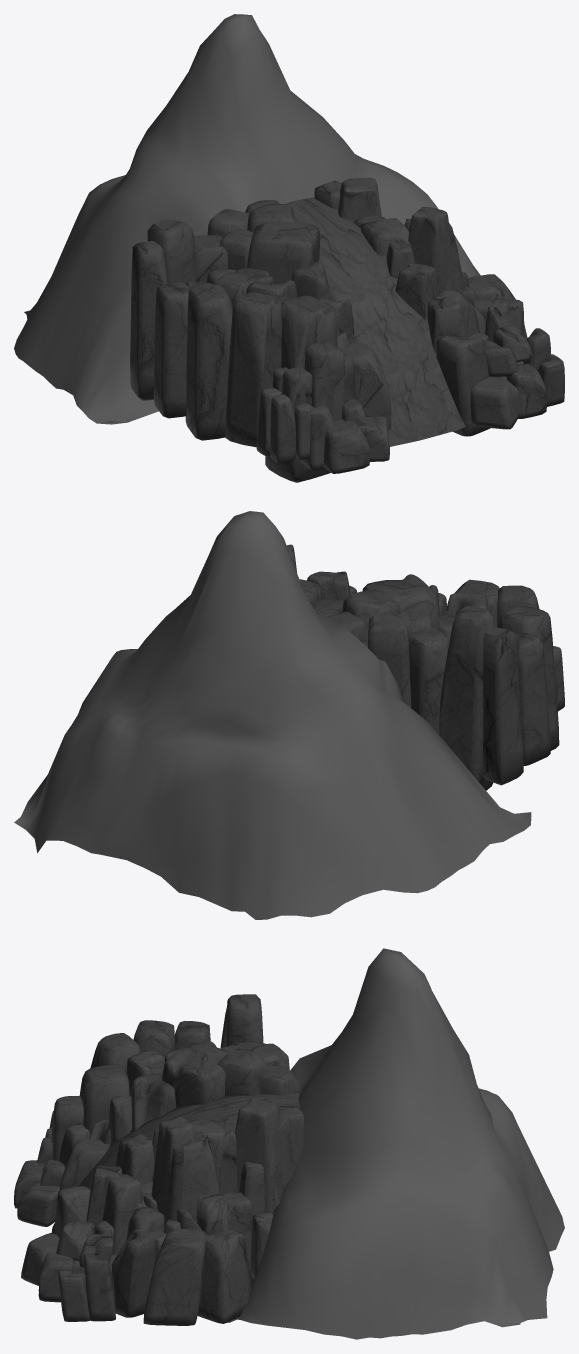
The model's file is Waterfall Mountain.fbx.
The picture shows the model from 3 angles, top to bottom: view 1: azimuth 30°, elevation 25°; view 2: azimuth 150°, elevation 25°; view 3: azimuth 270°, elevation 25°; orthographic projection. The views are drawn at different scales.
Visible parts, largest first — view 1: Mountain, Mountain.002, Mountain.001; view 2: Mountain.002, Mountain; view 3: Mountain.002, Mountain, Mountain.001.
Boxes of the visible parts, x1,y1,x2,y2 form: Mountain: (130,178,564,482); Mountain.002: (14,14,480,424); Mountain.001: (285,197,465,446); Mountain.002: (14,511,531,919); Mountain: (286,544,564,790); Mountain.002: (229,948,564,1339); Mountain: (14,994,304,1325); Mountain.001: (51,1091,299,1233).
Bounding box in the file's own units: 4593 × 3461 × 5385.
